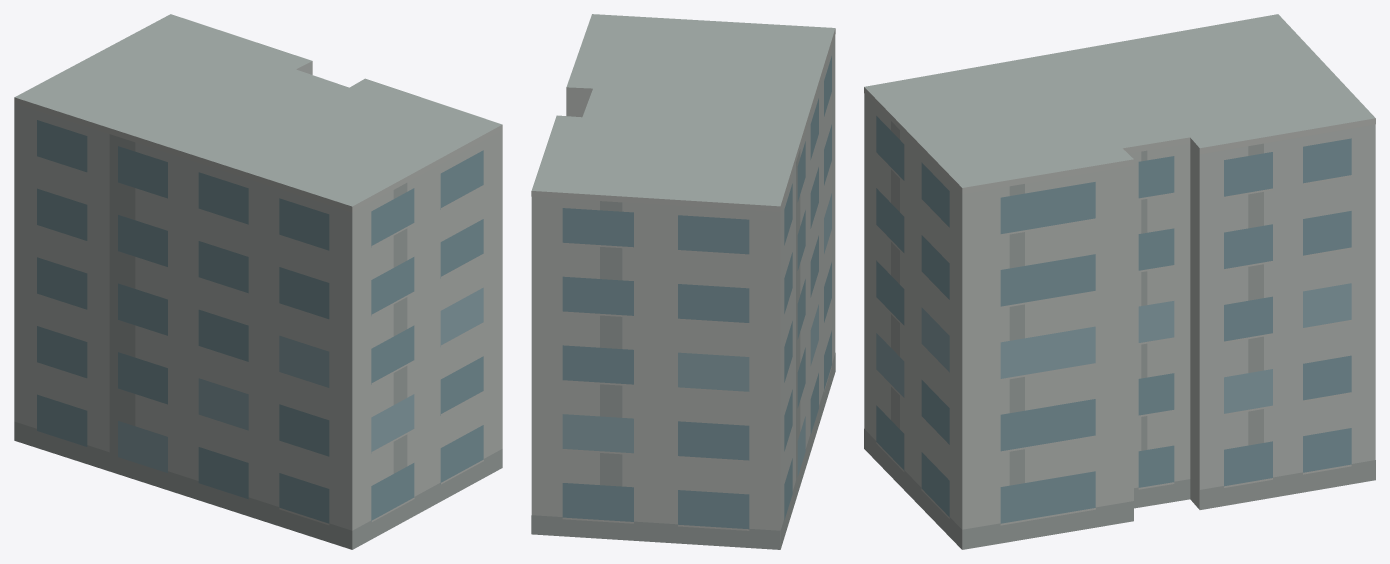
File: survey-upis-32885920.glb
3 views of the same model, side by side, from view 1: azimuth 30°, elevation 25°; view 2: azimuth 150°, elevation 25°; view 3: azimuth 270°, elevation 25° (orthographic). The views are drawn at different scales.
Visible parts, largest first — view 1: survey-upis-32885920.tmp; view 2: survey-upis-32885920.tmp; view 3: survey-upis-32885920.tmp.
Boxes of the visible parts, x1,y1,x2,y2 form: survey-upis-32885920.tmp: (14, 14, 502, 549); survey-upis-32885920.tmp: (531, 14, 835, 549); survey-upis-32885920.tmp: (864, 14, 1375, 549).
Bounding box in the file's own units: 14.55 × 14.1 × 18.08.
